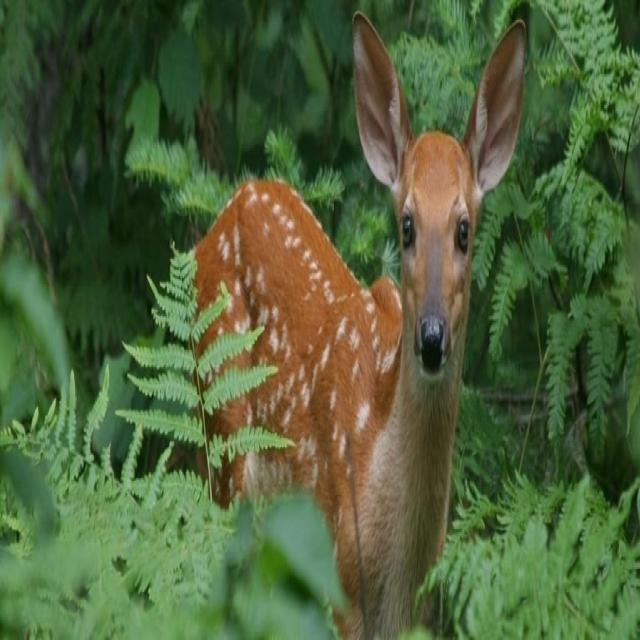deer: (194, 11, 525, 638)
